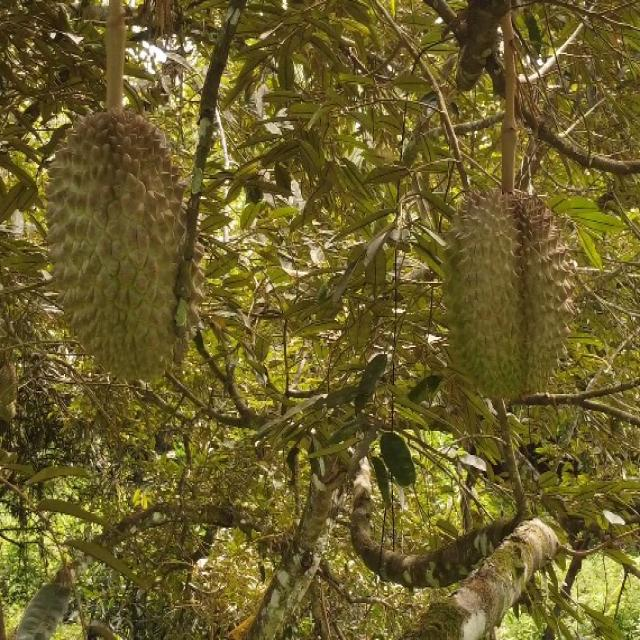mature: (46, 103, 195, 386), (434, 177, 572, 402)
